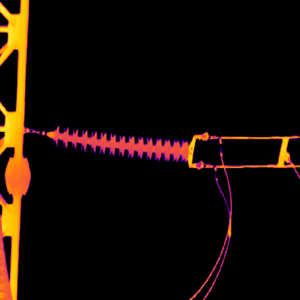insulator: (45, 123, 190, 161)
